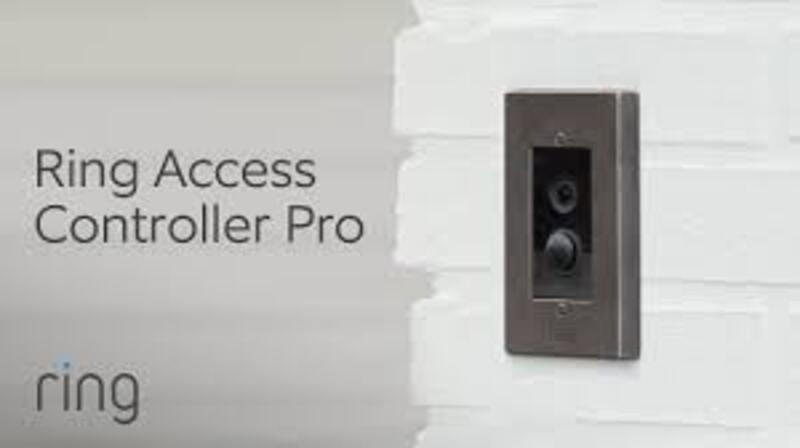doorbell: (512, 110, 606, 322)
